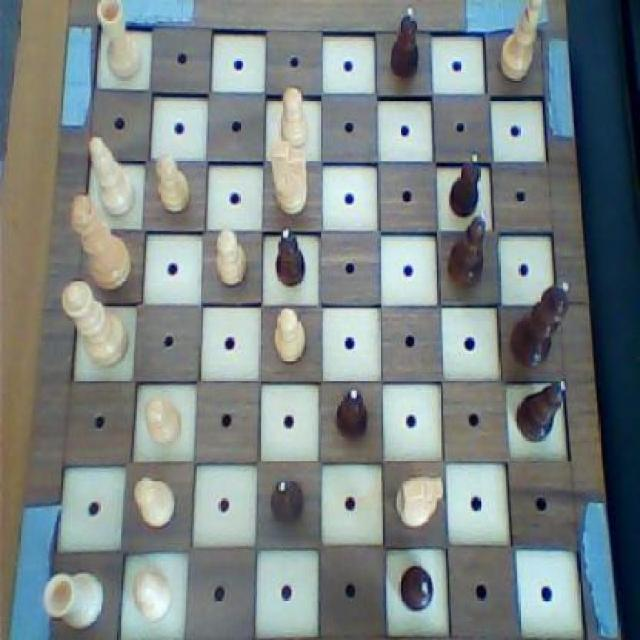bishop: (446, 208, 494, 292), (514, 375, 572, 444)
black-bishop: (508, 278, 574, 370)
black-knight: (386, 5, 421, 84), (448, 146, 484, 218), (332, 386, 373, 447), (394, 560, 436, 615), (271, 225, 307, 289), (269, 475, 307, 528)
black-rook: (84, 134, 138, 222), (495, 0, 547, 88)
white-bishop: (66, 189, 133, 295)
white-king: (266, 134, 312, 218), (391, 466, 445, 532)
white-knight: (131, 470, 179, 534), (128, 562, 174, 626), (154, 149, 192, 216), (142, 392, 184, 452), (210, 226, 248, 287), (278, 81, 312, 147), (272, 302, 308, 364)
white-pawn: (60, 278, 134, 376)
white-queen: (37, 568, 109, 632), (91, 0, 143, 83)
